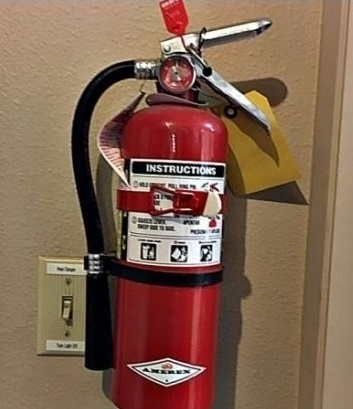fire_extinguisher: (70, 0, 274, 409)
